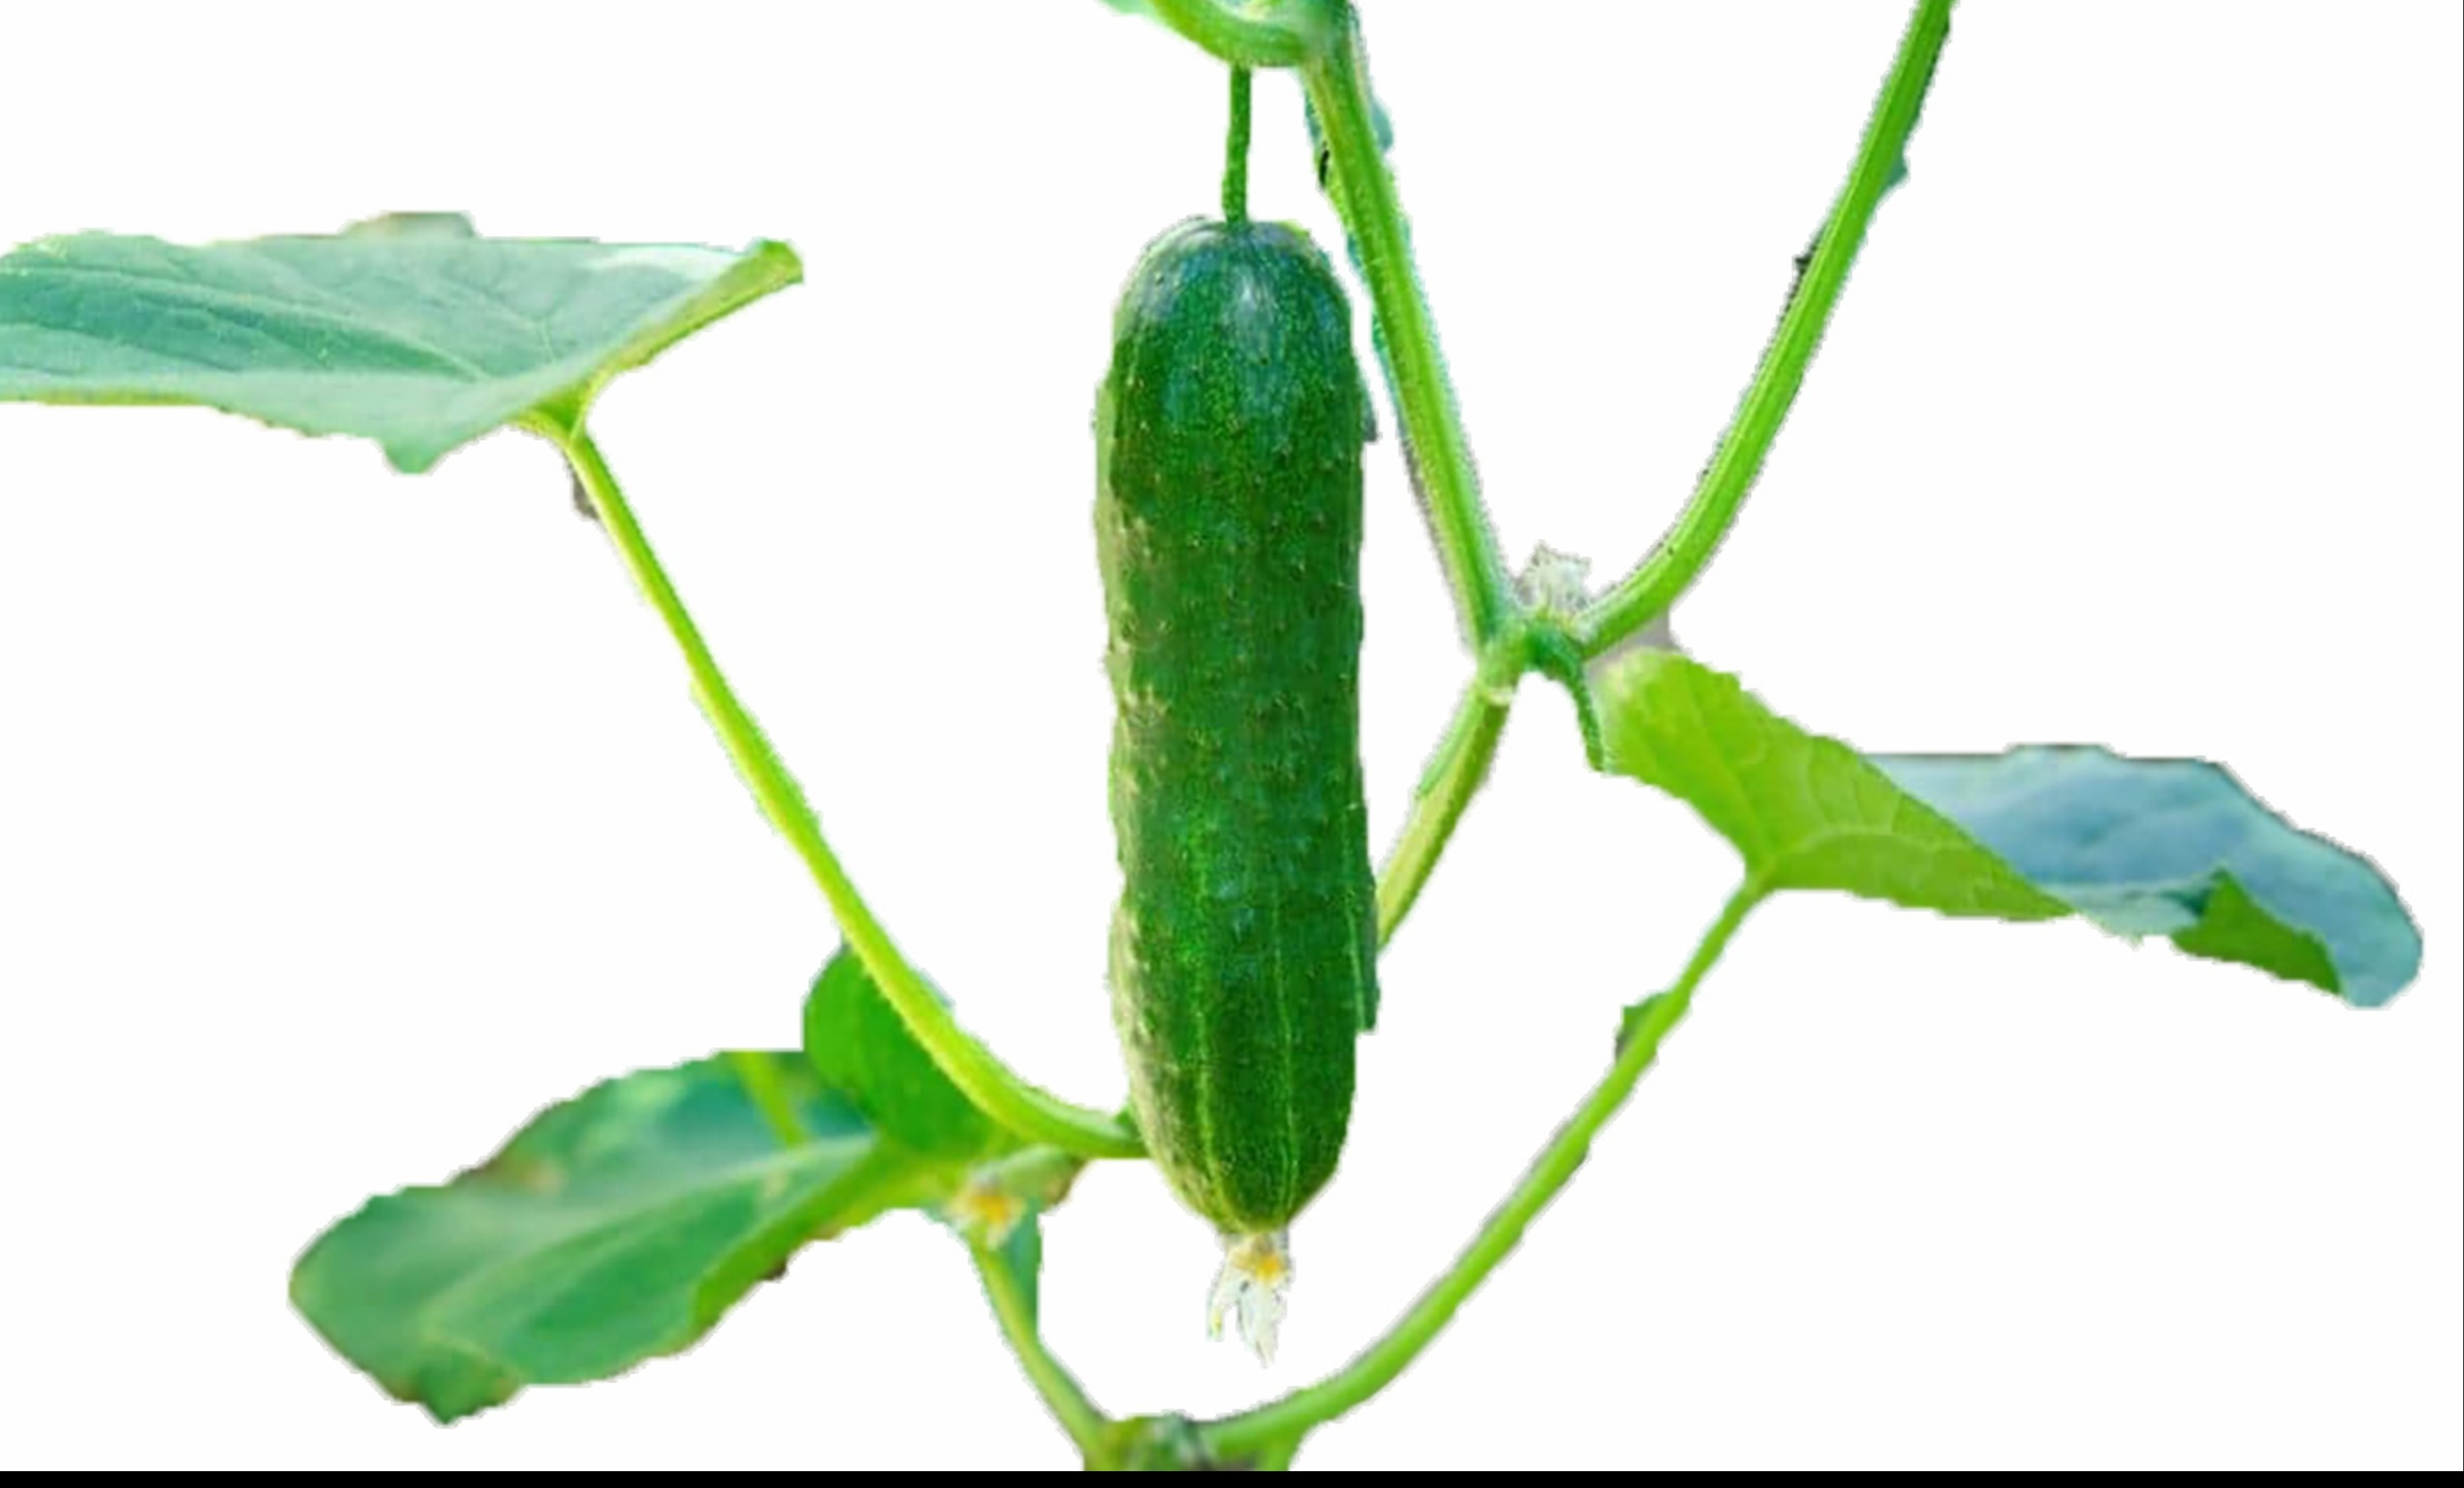corn_plant: (4, 210, 1082, 1455)
cucumber: (1079, 146, 1390, 1266)
cucumber_plant: (1415, 659, 2431, 1402)
